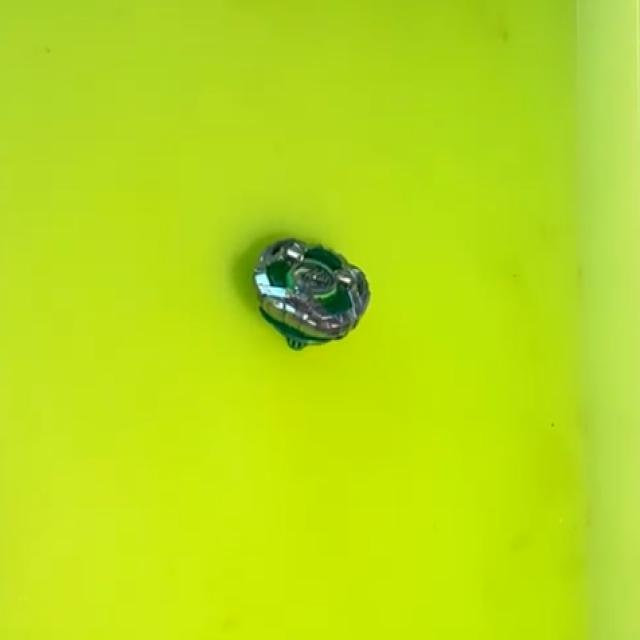Beyblade: (249, 234, 373, 350)
